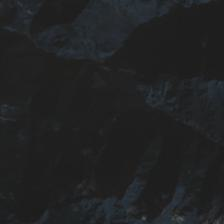landslides: (182, 188, 204, 210), (15, 1, 34, 18), (155, 84, 169, 107), (157, 97, 175, 109), (145, 86, 153, 107), (0, 117, 18, 123), (114, 0, 121, 15)
